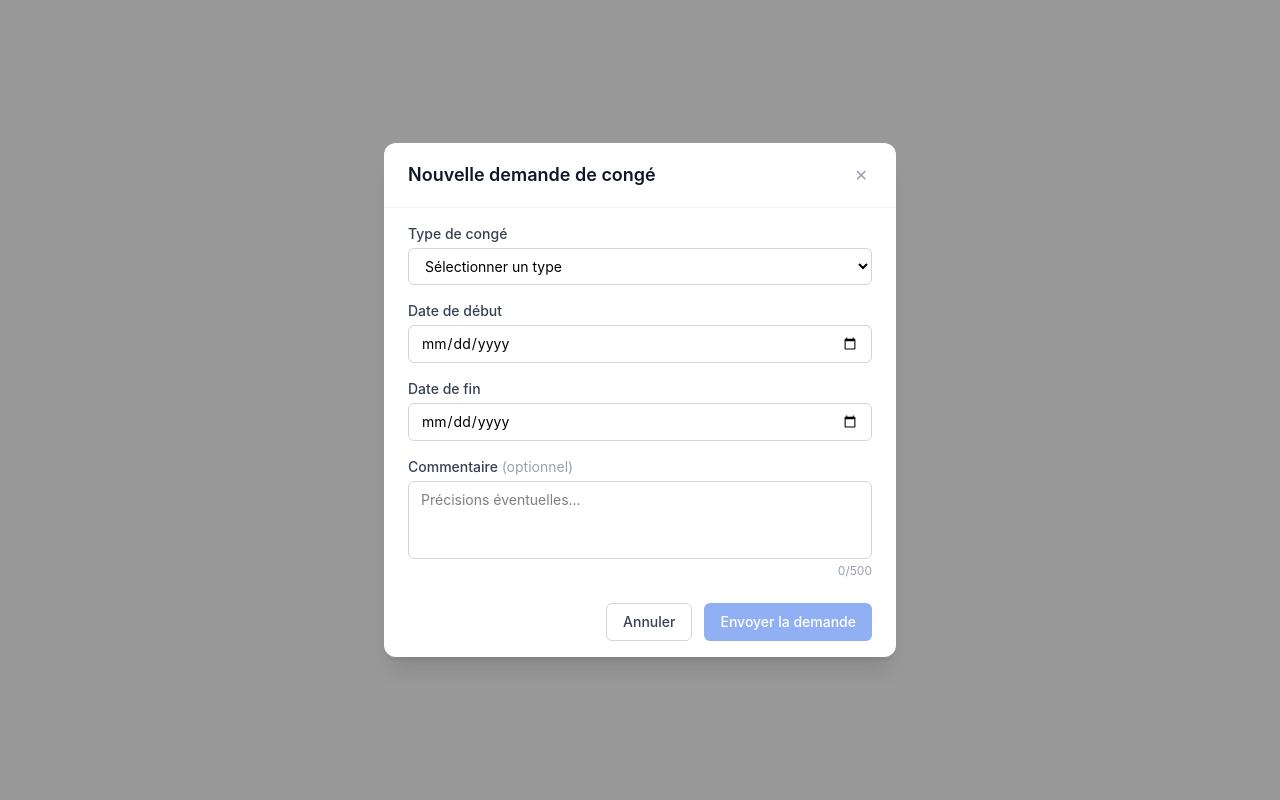
LeaveRequestForm › daysCount computed › shows singular "1 jour" for a same-day selection
The width and height of the screenshot is (1280, 800).
Type "2026-07-01" into the date field with id "start-date" at (640, 344), box [408,325,872,363]
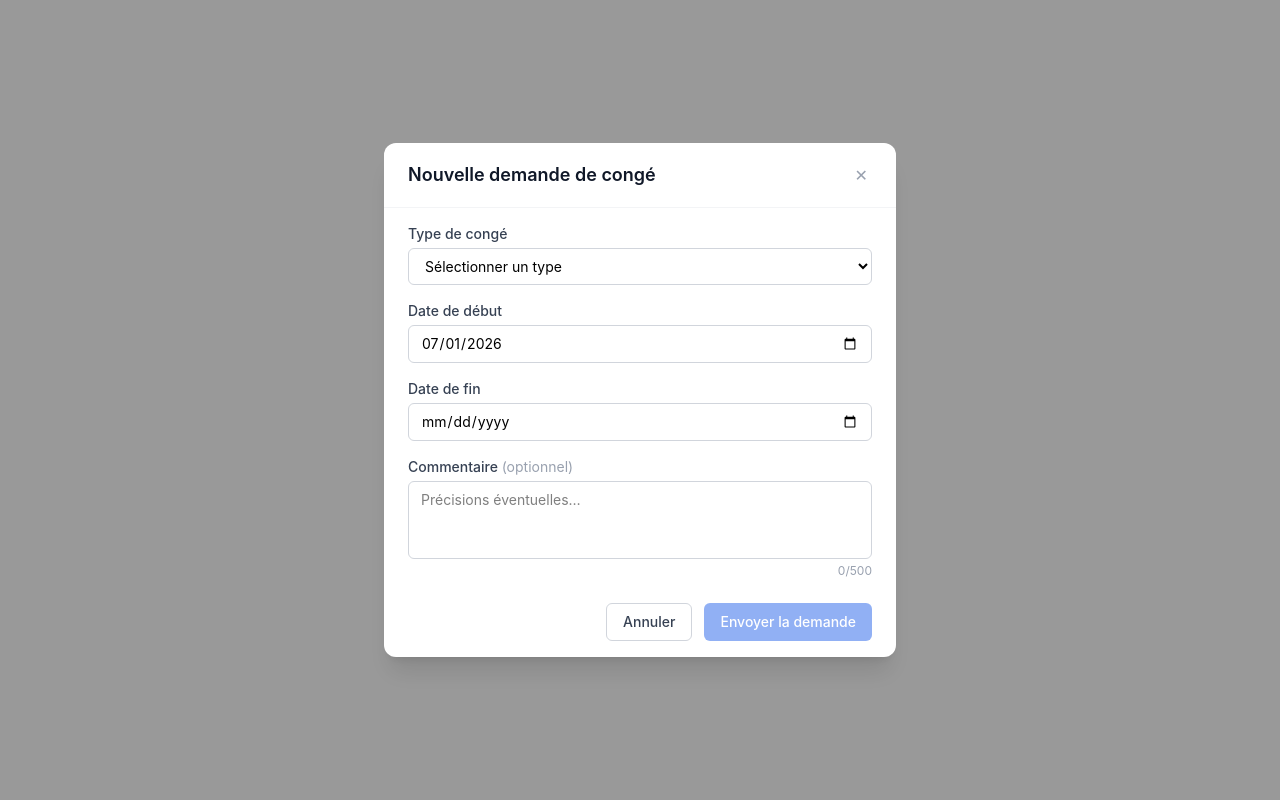
Type "2026-07-01" into the date field with id "end-date" at (640, 422), box [408,403,872,441]
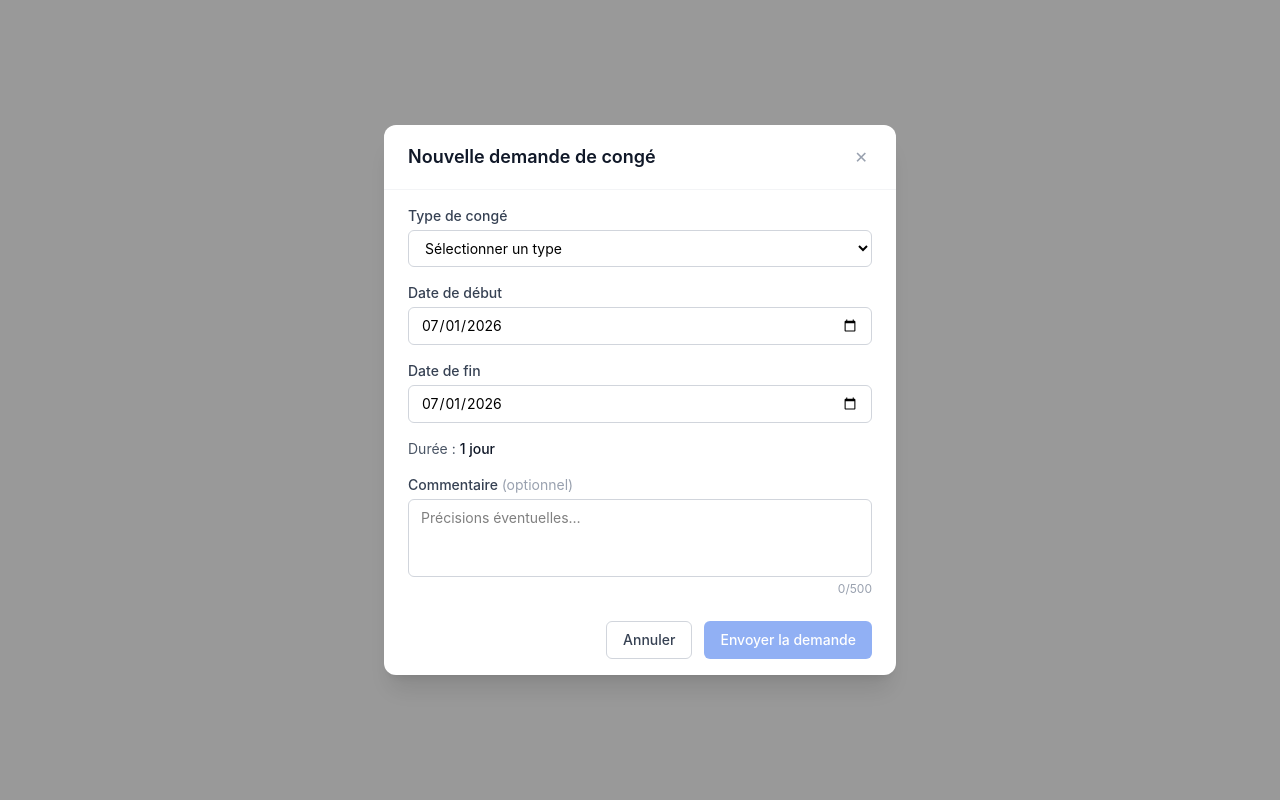
Now the text "1 jour" is shown, box [460,440,495,457]
